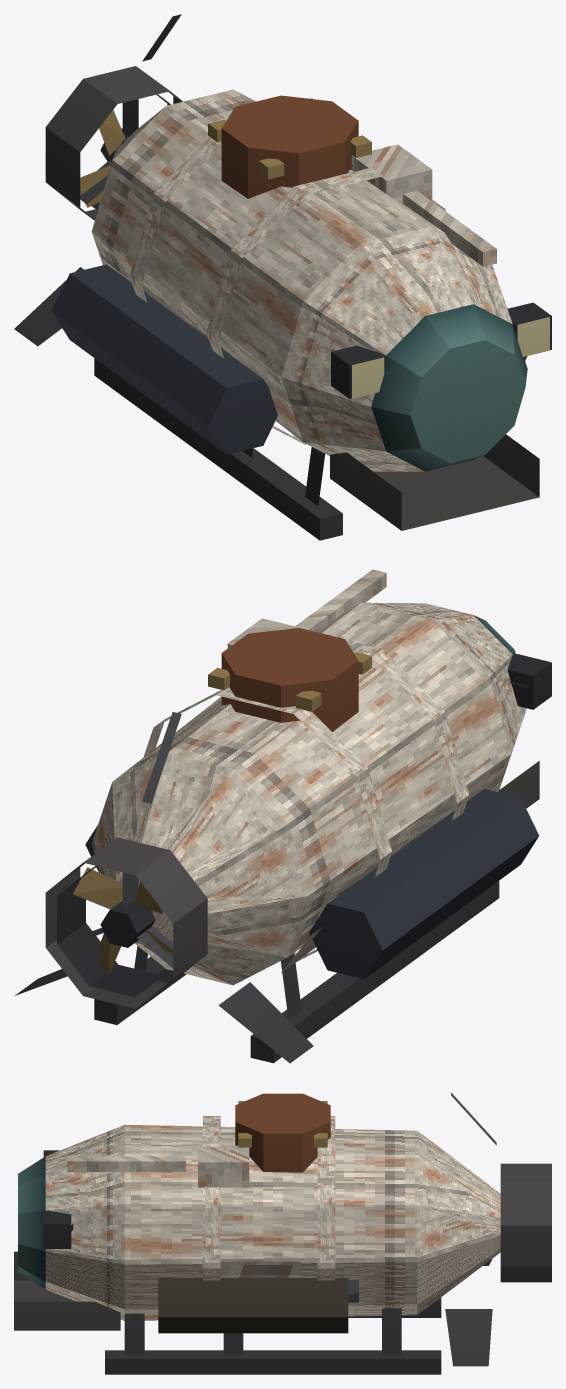
Rendered from loach.obj.
3 renders of one model, top to bottom at view 1: azimuth 30°, elevation 25°; view 2: azimuth 150°, elevation 25°; view 3: azimuth 270°, elevation 25°, orthographic. The views are drawn at different scales.
Parts seen in each view (by area): view 1: hull, pods, dome, hatch, basket, shroud, skids, ribs, lights, fins, prop; view 2: hull, pods, shroud, hatch, skids, ribs, fins, prop, lights, basket; view 3: hull, pods, skids, hatch, shroud, ribs, basket, dome, fins, lights.
Boxes of the visible parts, x1=… form: hull: x1=91, y1=89, x2=512, y2=471; pods: x1=51, y1=264, x2=527, y2=454; dome: x1=371, y1=304, x2=527, y2=471; hatch: x1=208, y1=95, x2=371, y2=198; basket: x1=330, y1=434, x2=539, y2=530; shroud: x1=45, y1=66, x2=182, y2=220; skids: x1=94, y1=358, x2=342, y2=540; ribs: x1=129, y1=137, x2=445, y2=444; lights: x1=331, y1=302, x2=551, y2=398; fins: x1=14, y1=14, x2=181, y2=346; prop: x1=80, y1=110, x2=128, y2=207; hull: x1=91, y1=569, x2=526, y2=985; pods: x1=85, y1=789, x2=539, y2=979; shroud: x1=45, y1=837, x2=207, y2=1008; hatch: x1=208, y1=628, x2=371, y2=731; skids: x1=94, y1=881, x2=499, y2=1063; ribs: x1=143, y1=640, x2=468, y2=961; fins: x1=15, y1=712, x2=313, y2=1063; prop: x1=73, y1=867, x2=173, y2=974; lights: x1=507, y1=653, x2=551, y2=709; basket: x1=498, y1=761, x2=539, y2=808; hull: x1=45, y1=1124, x2=500, y2=1320; pods: x1=158, y1=1278, x2=358, y2=1333; skids: x1=105, y1=1297, x2=441, y2=1374; hatch: x1=235, y1=1093, x2=330, y2=1172; shroud: x1=500, y1=1163, x2=551, y2=1282; ribs: x1=203, y1=1116, x2=335, y2=1280; basket: x1=14, y1=1251, x2=120, y2=1330; dome: x1=18, y1=1156, x2=45, y2=1289; fins: x1=445, y1=1092, x2=496, y2=1366; lights: x1=43, y1=1150, x2=73, y2=1248.
Bounding box in the file's own units: 1.42 × 1.39 × 2.72.
